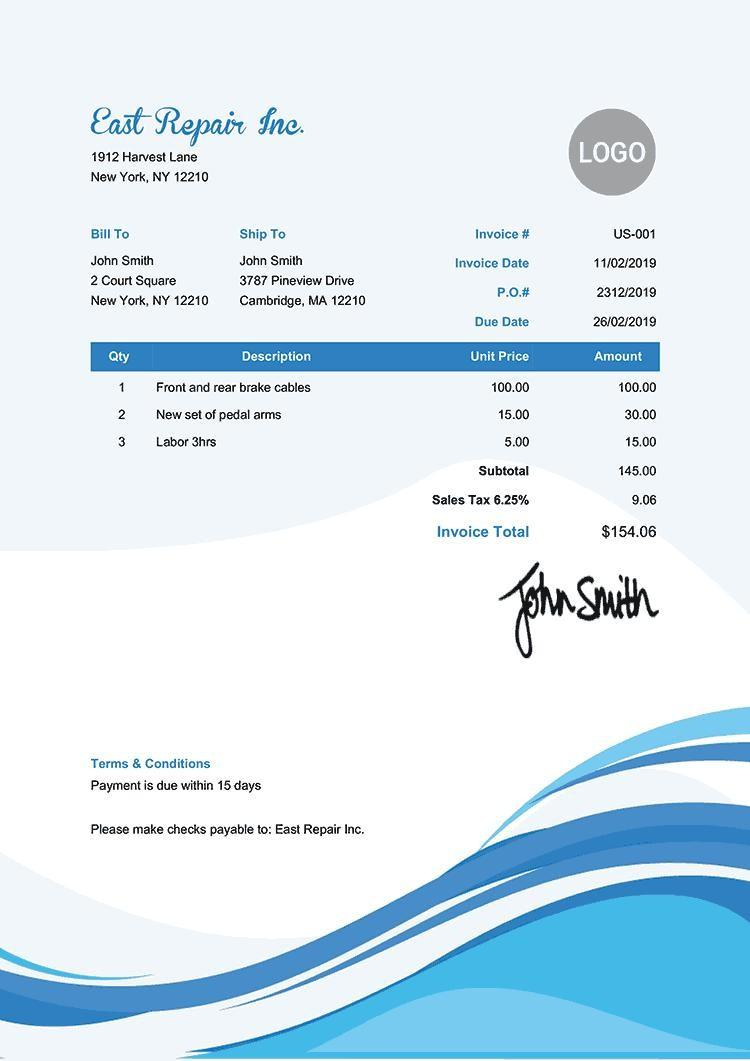ROI: (106, 349, 660, 512), (440, 221, 666, 331), (89, 756, 376, 839), (87, 95, 326, 191), (86, 226, 226, 317), (434, 521, 666, 547)
